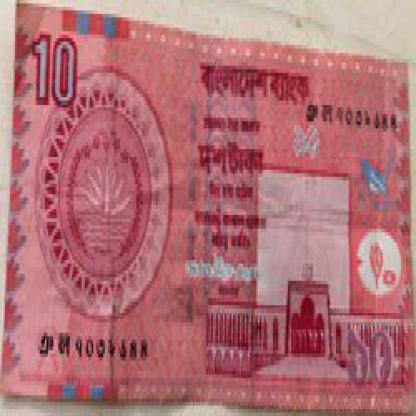Ten Taka: (338, 315, 398, 398), (30, 28, 83, 111)
